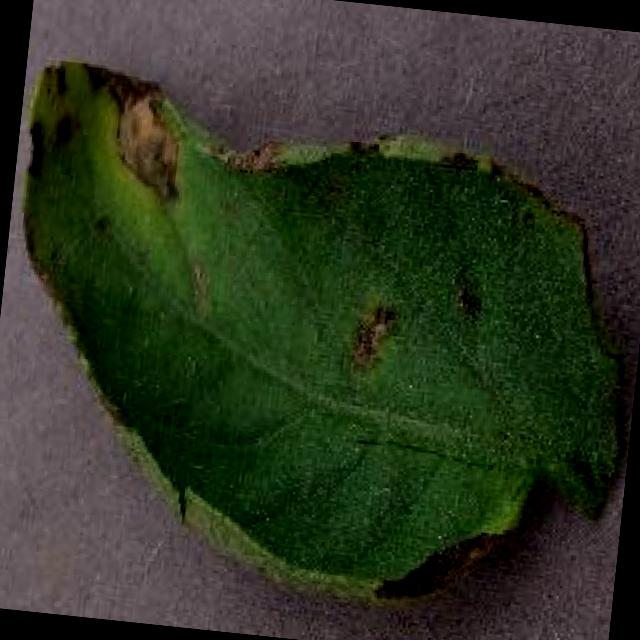bacterial spot: (20, 62, 621, 609)
